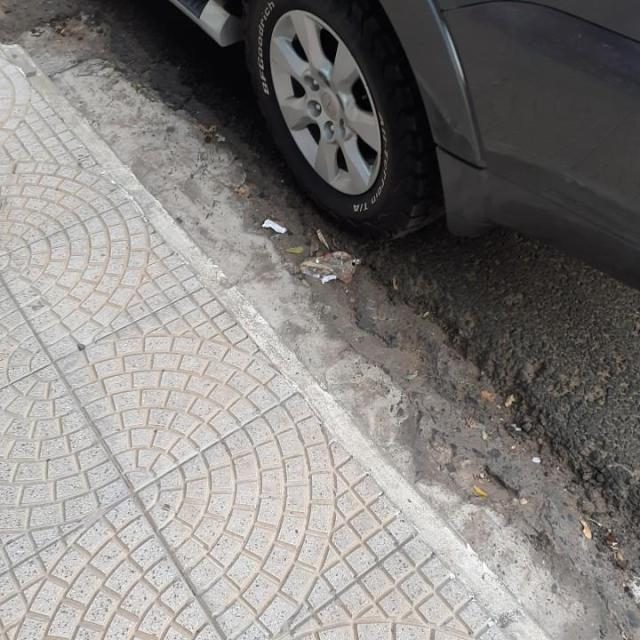litter: (300, 251, 362, 283), (260, 216, 288, 233)
